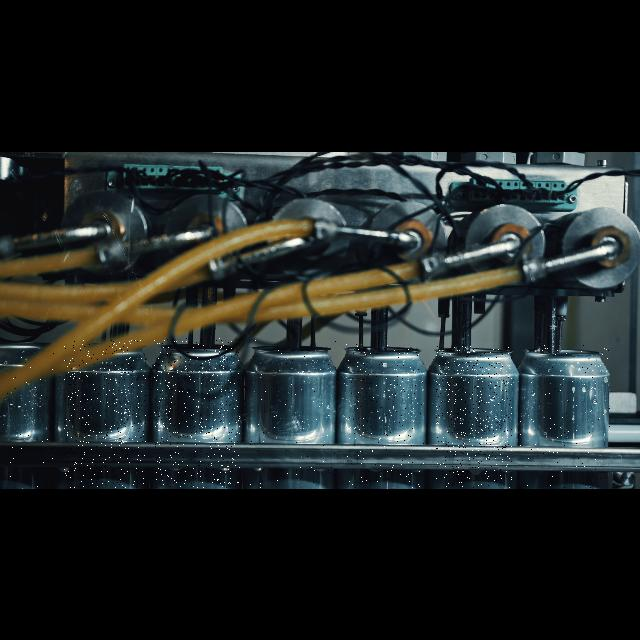empty: (520, 342, 610, 488), (249, 340, 337, 488), (154, 338, 240, 488), (64, 340, 146, 488), (346, 344, 424, 488), (436, 346, 512, 488), (6, 336, 54, 488)
